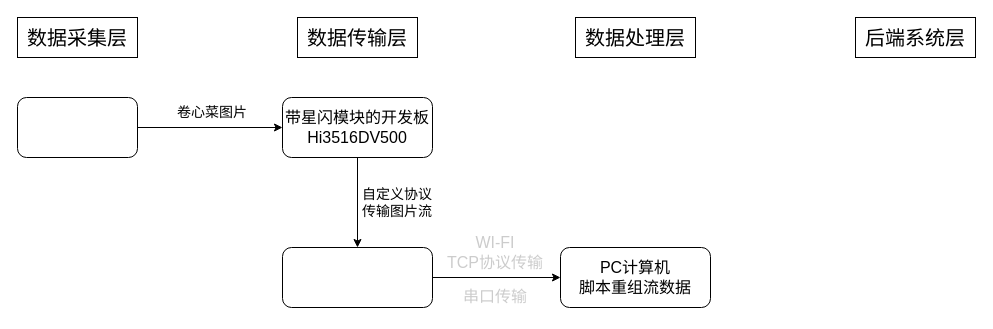
Image size: 993x329. Some labels were removed from this diagram. Here are the shapes that lost their labels. From the top down, the centre of each, then its label:
At point (77, 127): "硬件传感器 SC450摄像头".
At point (357, 277): "支持多模块的开发板 Hi3863".
